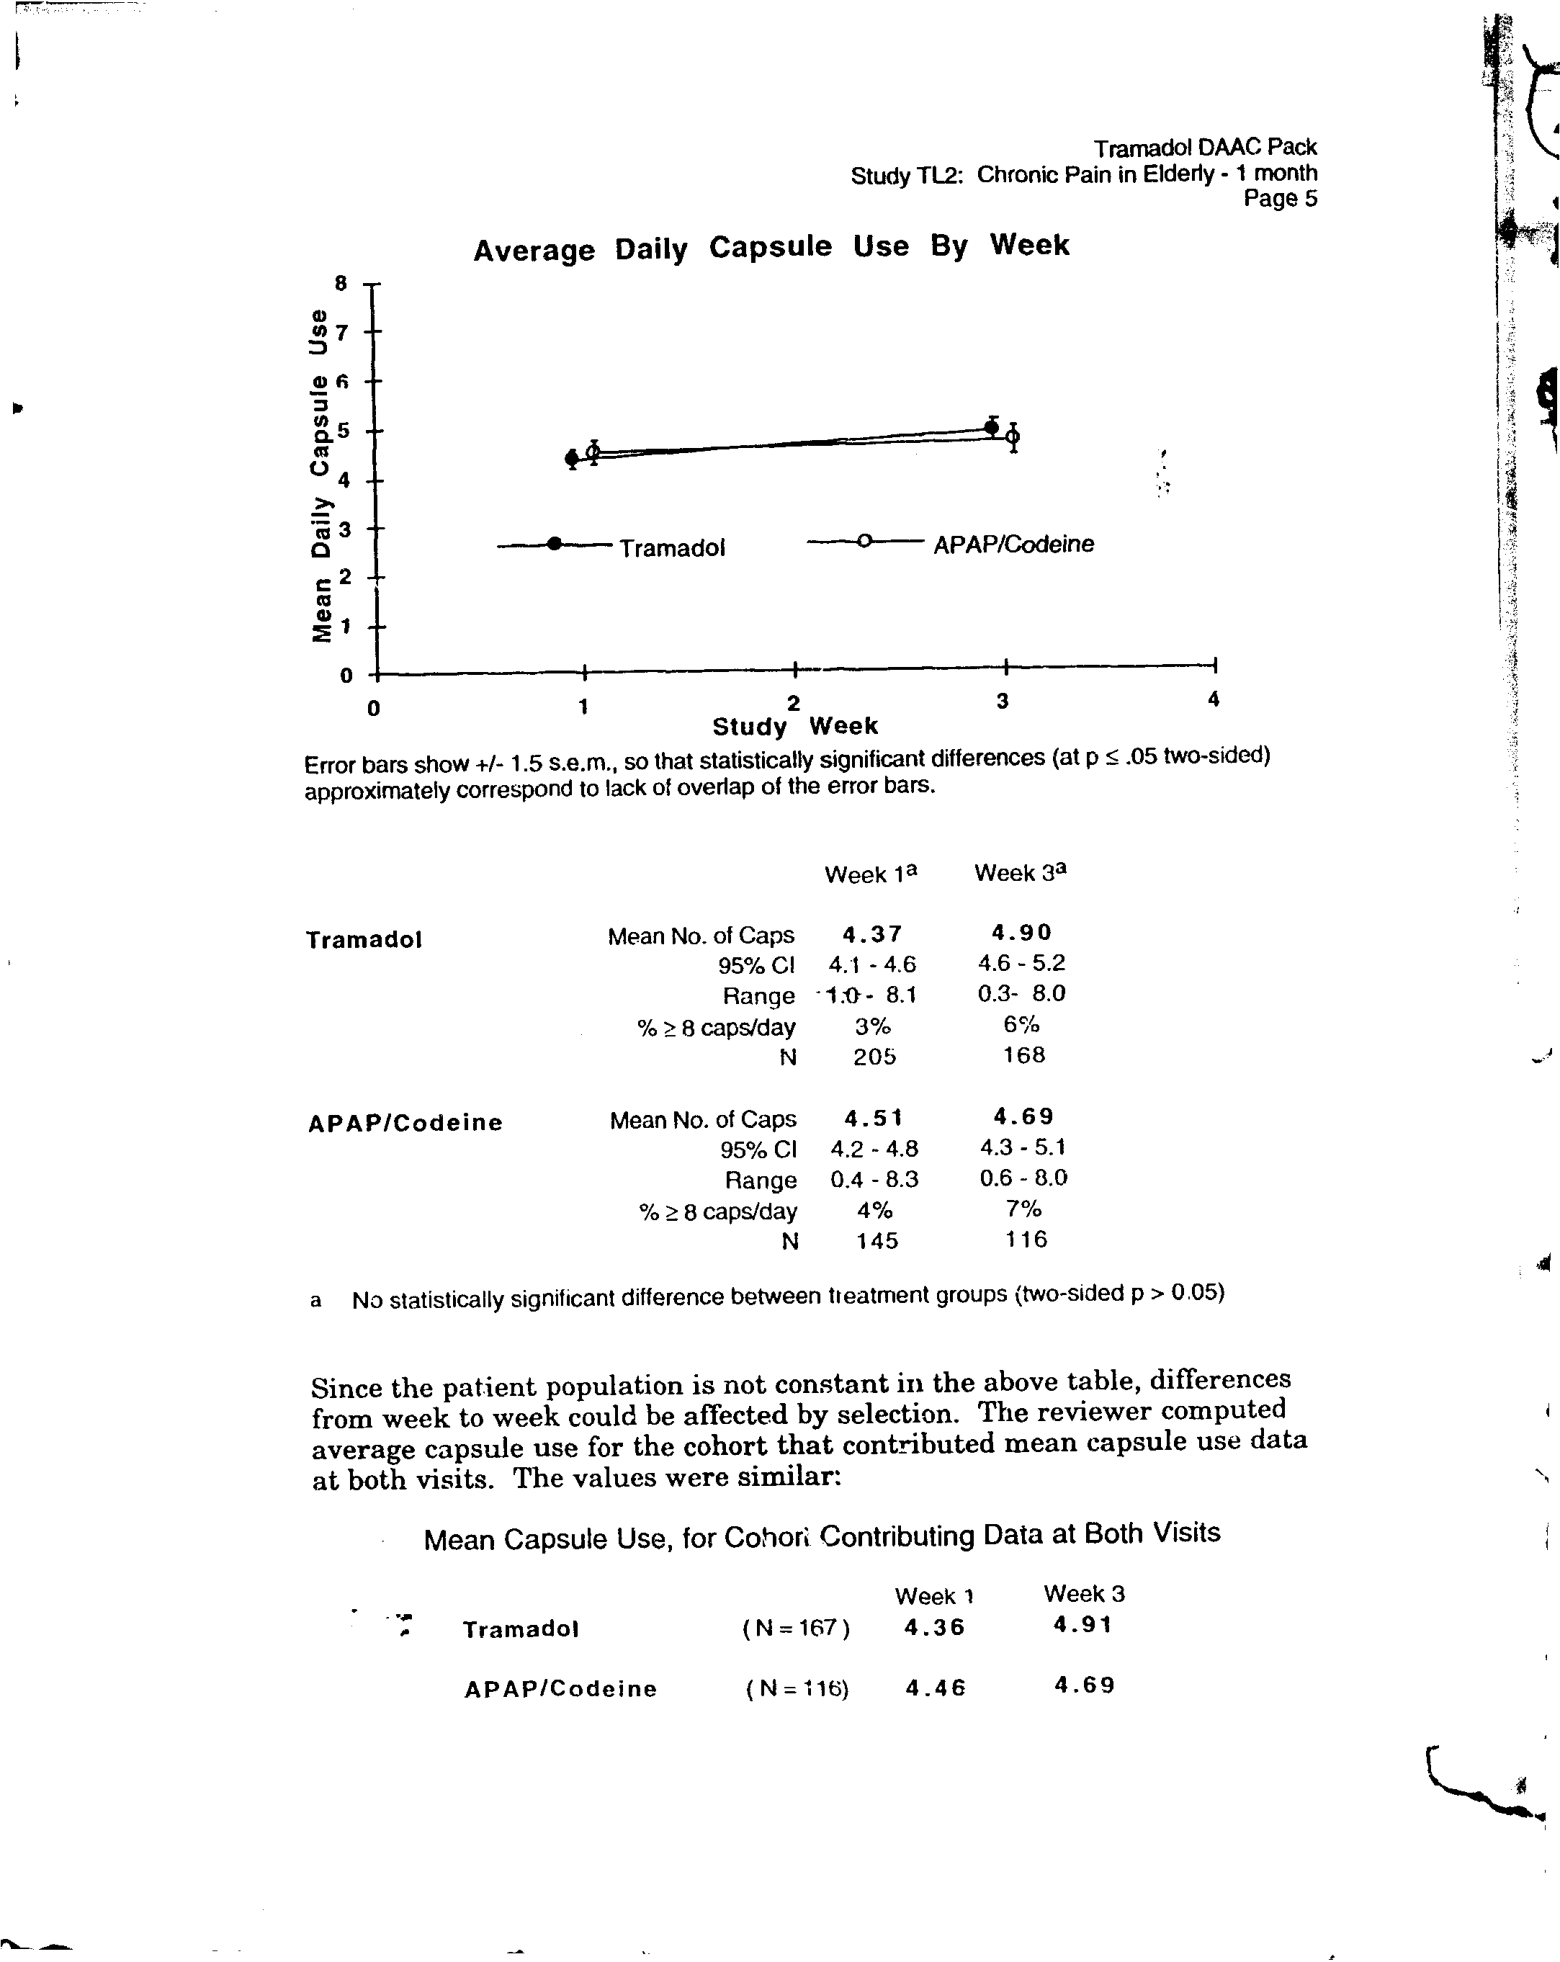nolines: (304, 858, 1070, 1250), (457, 1583, 1127, 1701)
